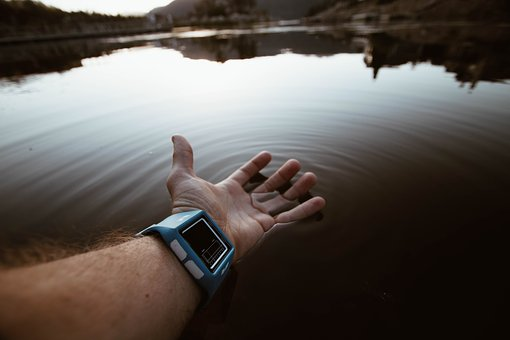palm: (191, 180, 291, 255)
